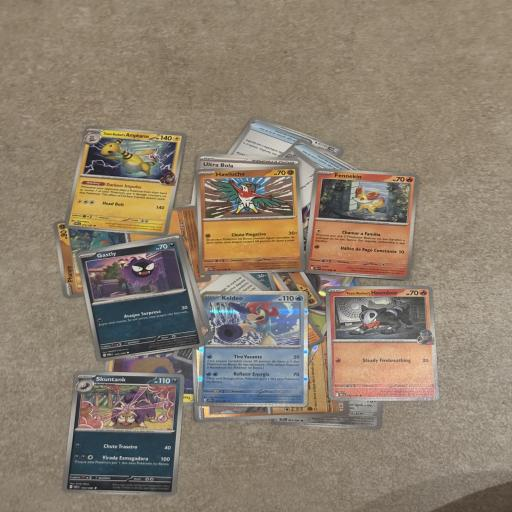card: (75, 232, 205, 367), (61, 370, 185, 496), (63, 124, 187, 237), (326, 283, 441, 404), (196, 290, 309, 407), (305, 166, 419, 281), (195, 165, 306, 275)
